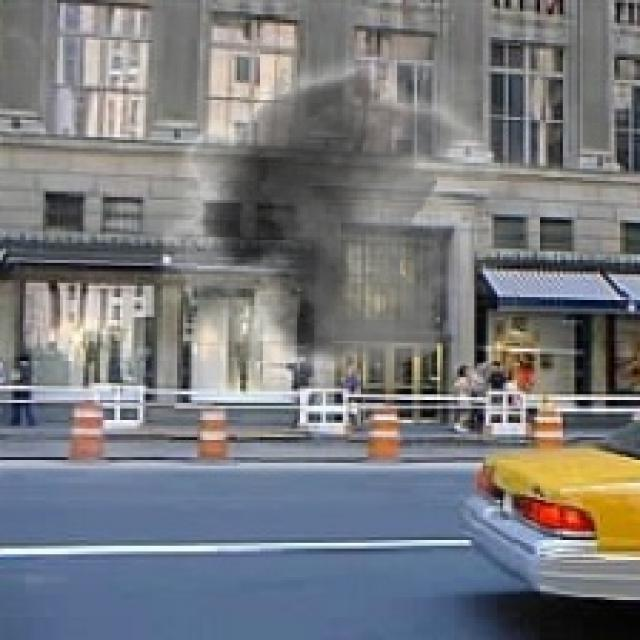smoke: (137, 37, 546, 394)
